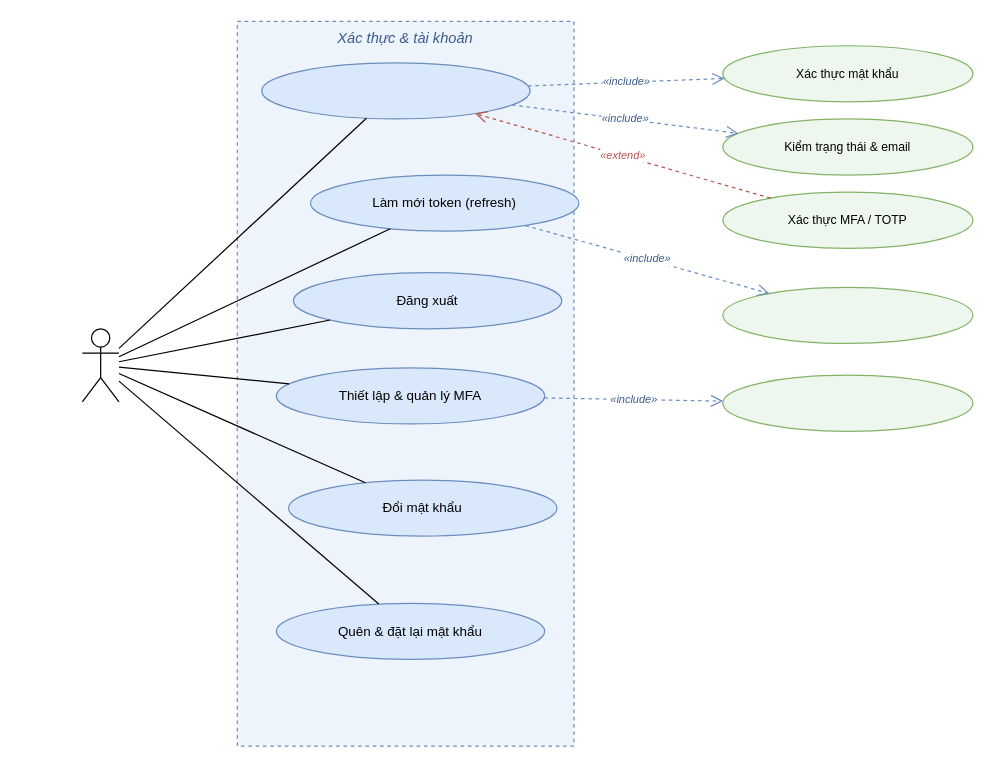
Some shapes in this 994 by 767 pixel diagram are drawn without their labels. The shapes that lost their labels are listed below. From the top down, each one's centre as x and y in pixels, then its label:
At point (395, 90): "Đăng nhập".
At point (847, 314): "Xoay vòng refresh token".
At point (100, 365): "Người dùng (mọi vai trò)".
At point (847, 402): "Sinh QR & bí mật TOTP".
